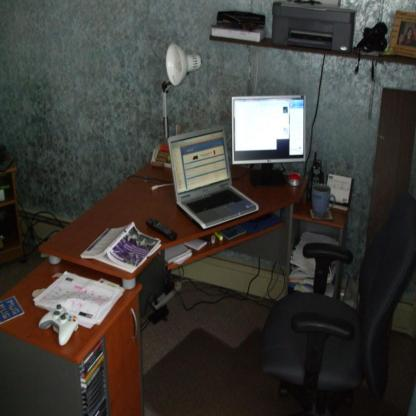board: (167, 123, 259, 229)
